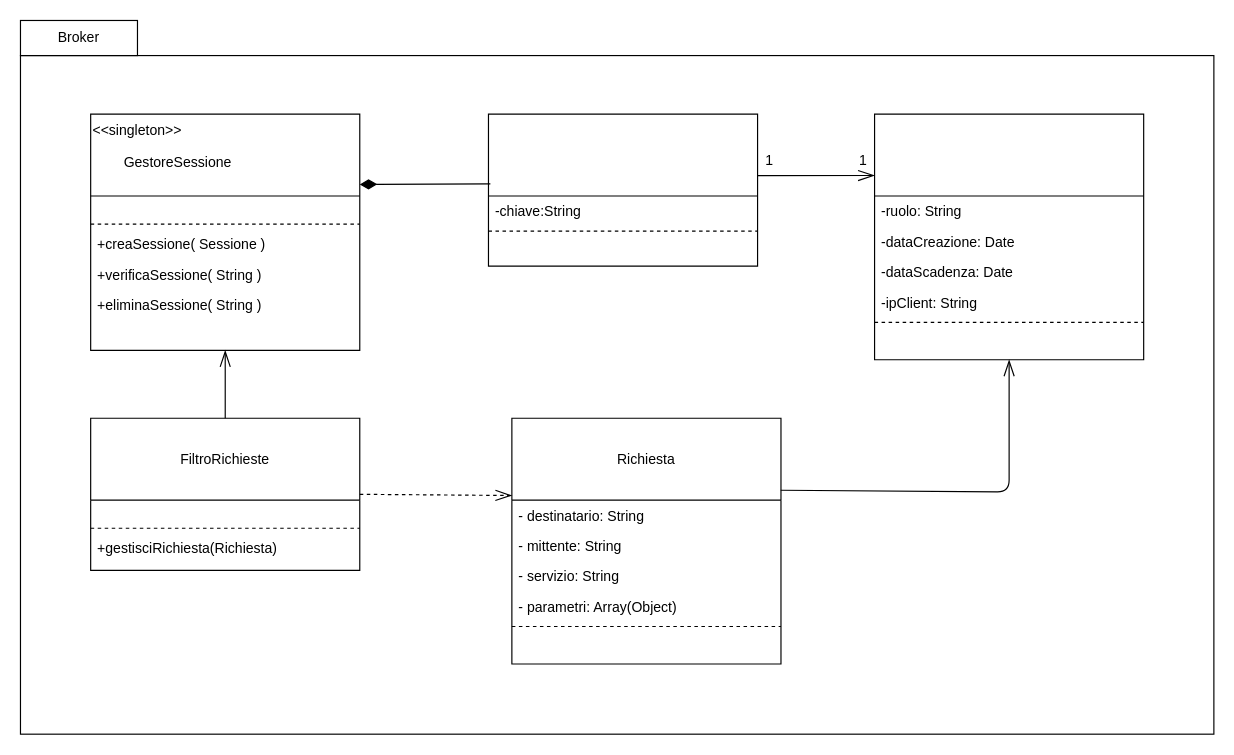
The diagram is 1234 pixels wide and 755 high, and some of its shapes have lost their labels. Here are the shapes that lost their labels. From the top down, the box of each, then its label:
(487, 113, 758, 266): SessioneAttiva
(873, 113, 1144, 360): Sessione
